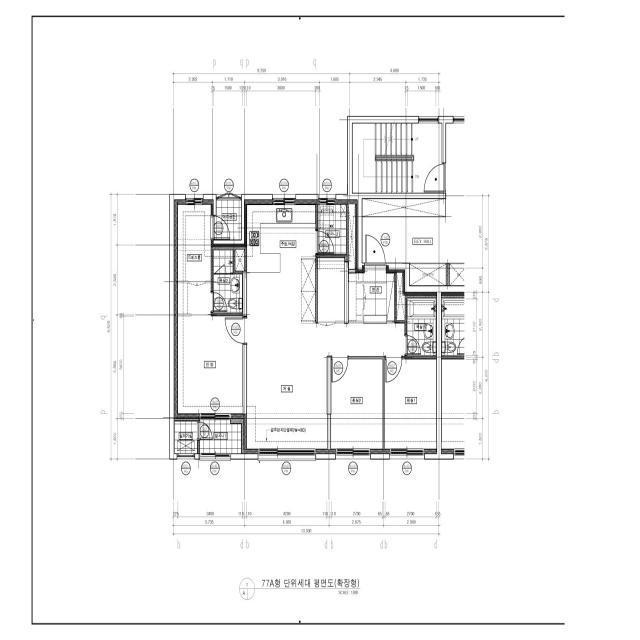background: (0, 0, 640, 640)
space_balconi: (200, 420, 241, 454), (318, 205, 346, 254)
space_bedroom: (178, 316, 243, 414), (331, 359, 383, 449), (385, 359, 436, 449)
space_dressroom: (178, 205, 211, 316)
space_elevator_hall: (362, 217, 446, 263)
space_front: (364, 266, 395, 324)
space_kitchen: (247, 205, 316, 323)
space_living_room: (247, 323, 405, 449)
space_other: (318, 258, 344, 321), (362, 199, 445, 216), (214, 200, 241, 240), (410, 264, 446, 285), (349, 273, 362, 321), (348, 204, 355, 269), (397, 273, 405, 320), (235, 249, 244, 271)
space_outdoor_room: (175, 421, 197, 454)
space_staircase: (353, 124, 442, 193)
space_toilet: (213, 249, 242, 313), (407, 298, 436, 356)
